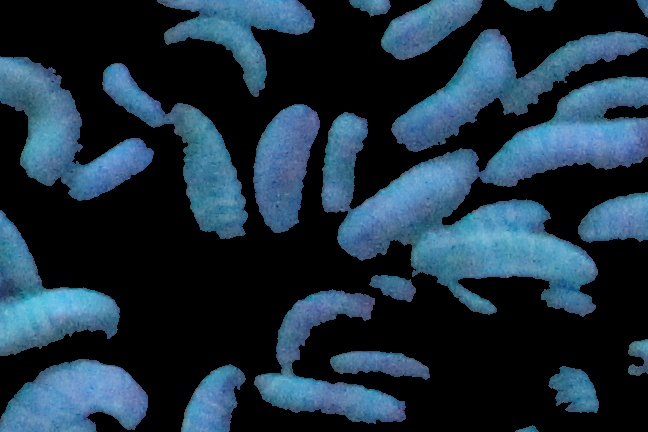larvae: (351, 145, 483, 258), (401, 223, 594, 293), (170, 102, 250, 241), (520, 22, 646, 107), (502, 123, 648, 190), (250, 103, 323, 233), (2, 364, 160, 423), (256, 367, 407, 424), (1, 63, 71, 185), (276, 290, 379, 365), (389, 64, 509, 128), (1, 286, 124, 348), (164, 23, 275, 82), (73, 137, 152, 212), (96, 55, 175, 129), (382, 1, 481, 58), (320, 112, 370, 221), (156, 1, 316, 33), (1, 186, 42, 294), (577, 191, 648, 246), (564, 74, 648, 118), (333, 348, 424, 384), (187, 369, 239, 432)
